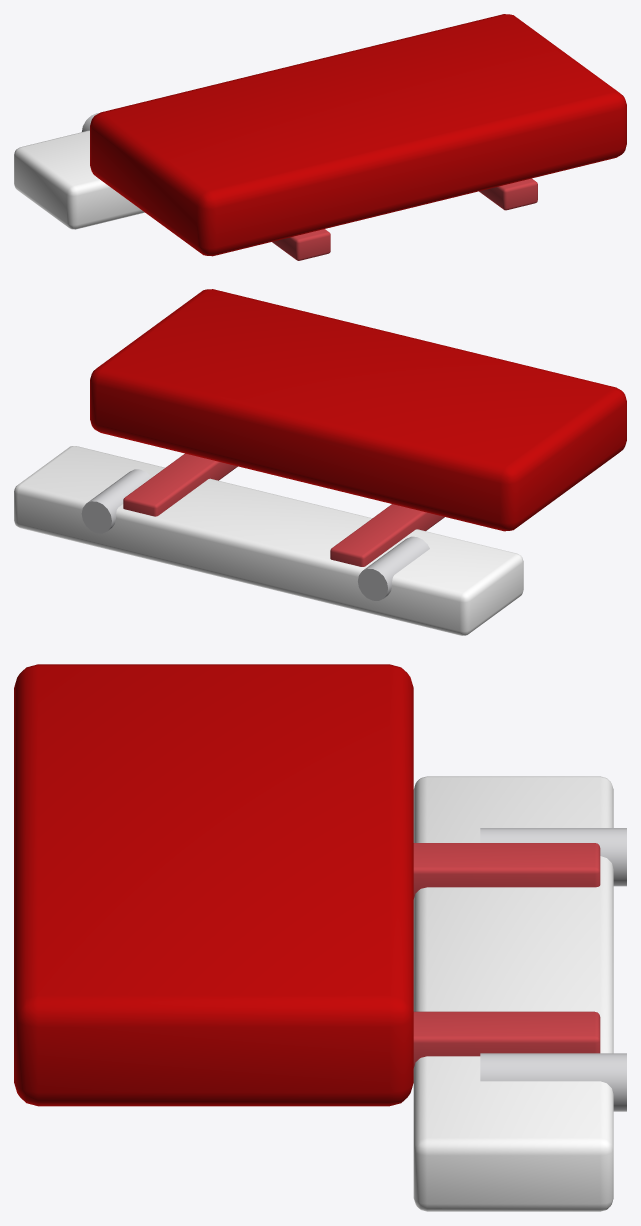
3 views of the same model, one above another, from view 1: azimuth 30°, elevation 25°; view 2: azimuth 150°, elevation 25°; view 3: azimuth 270°, elevation 25° (orthographic). The views are drawn at different scales.
Visible parts, largest first — view 1: xylophone_v5_default; view 2: xylophone_v5_default; view 3: xylophone_v5_default.
Part boxes in pixels (x1,y1,x2,y2): xylophone_v5_default: (14,14,626,260); xylophone_v5_default: (14,289,626,635); xylophone_v5_default: (14,664,626,1211).
Size of the model in its own units: 0.66 by 0.165 by 0.46.
